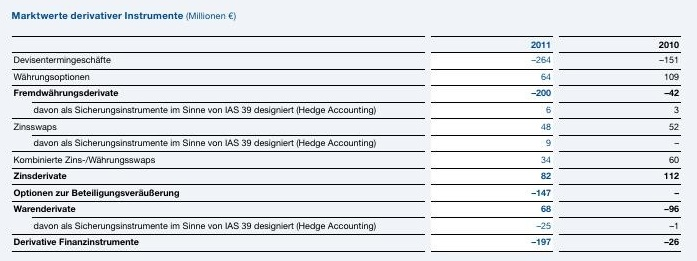table: (0, 0, 697, 261)
